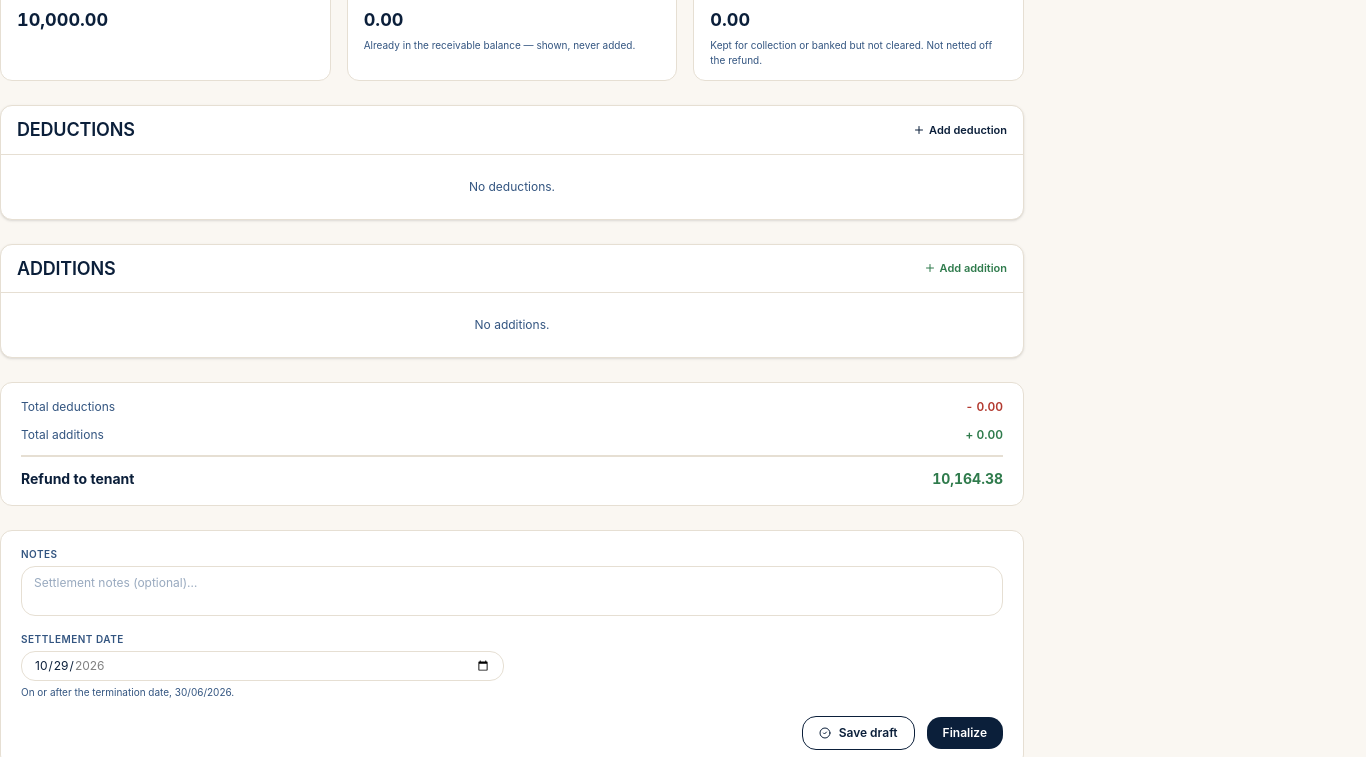
Scenario: Settlement statement › says the contract closed when the refetch says so
(page scrolled)
Click the button with test id "settlement-finalize" at (965, 733), box 927,717 -> 1003,749
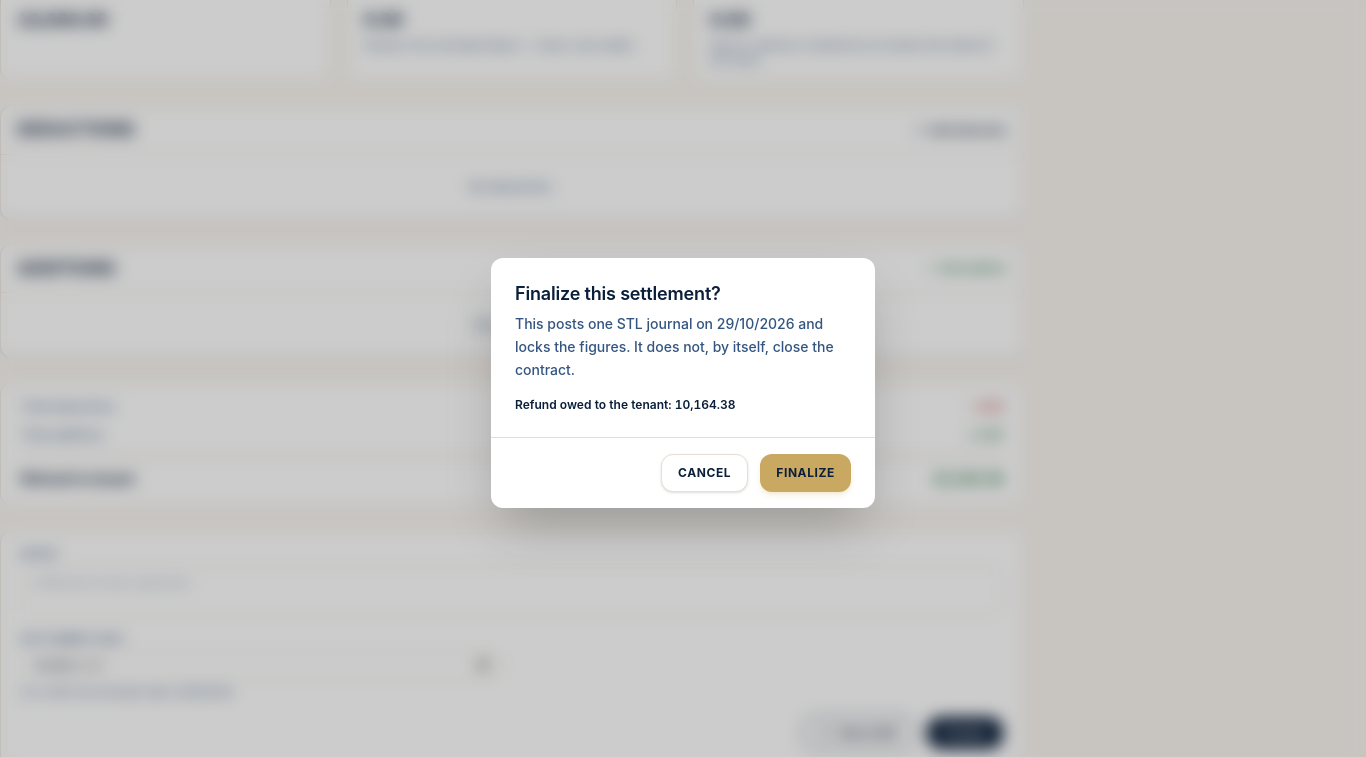
Click the button with test id "settlement-finalize-confirm" at (806, 473), box 760,454 -> 851,492
(page scrolled)
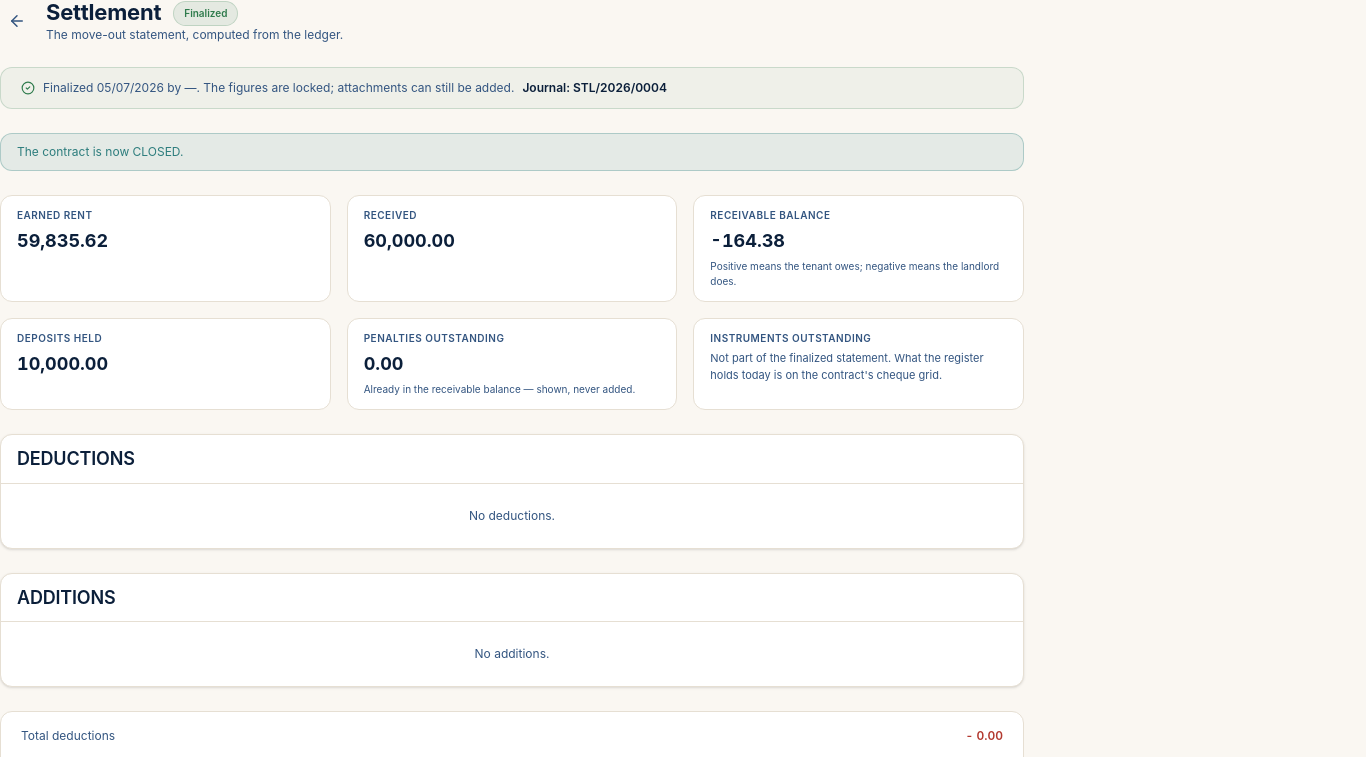
Result: the text with test id "settlement-closure" reads "The contract is now CLOSED." at 17,144 -> 184,159
